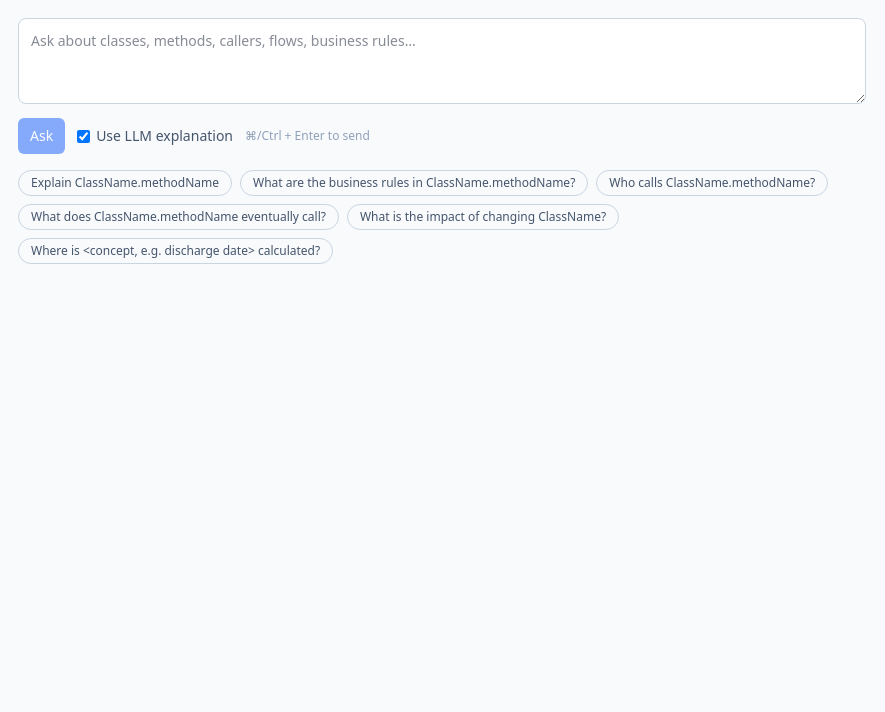
AskPage › shows LLM errors without hiding deterministic facts
Type "q" into the text box named "Question".
click(442, 61); type("q")  # box [18,18,866,104]
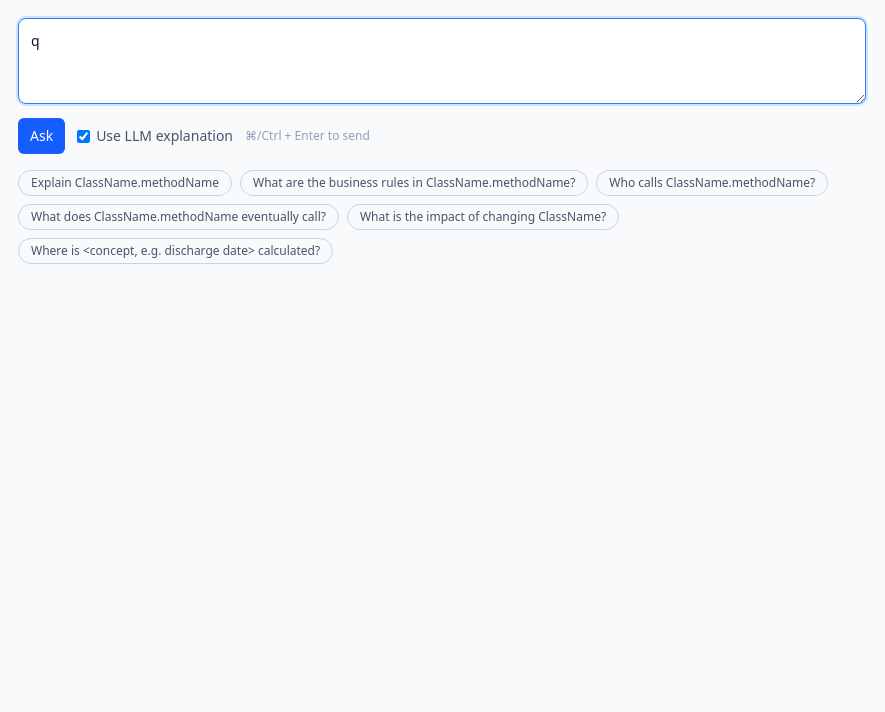
Click the button "Ask".
click(42, 136)  # box [18,118,65,154]
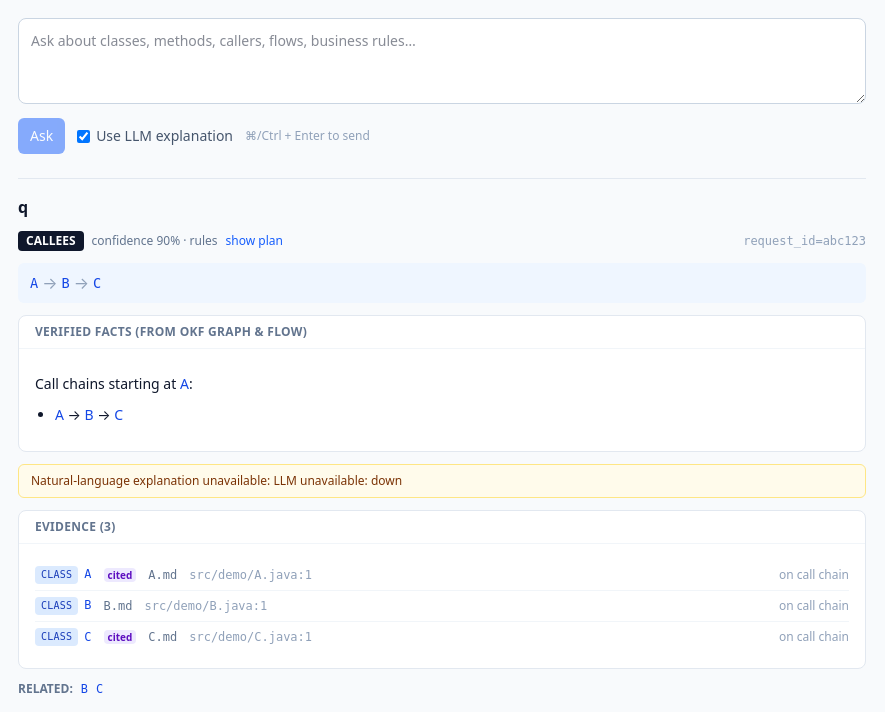
Expected: the text "LLM unavailable: down" is shown, [273,472,402,488]
Expected: the heading "Verified facts (from OKF graph & flow)" is shown, [35,324,307,340]
